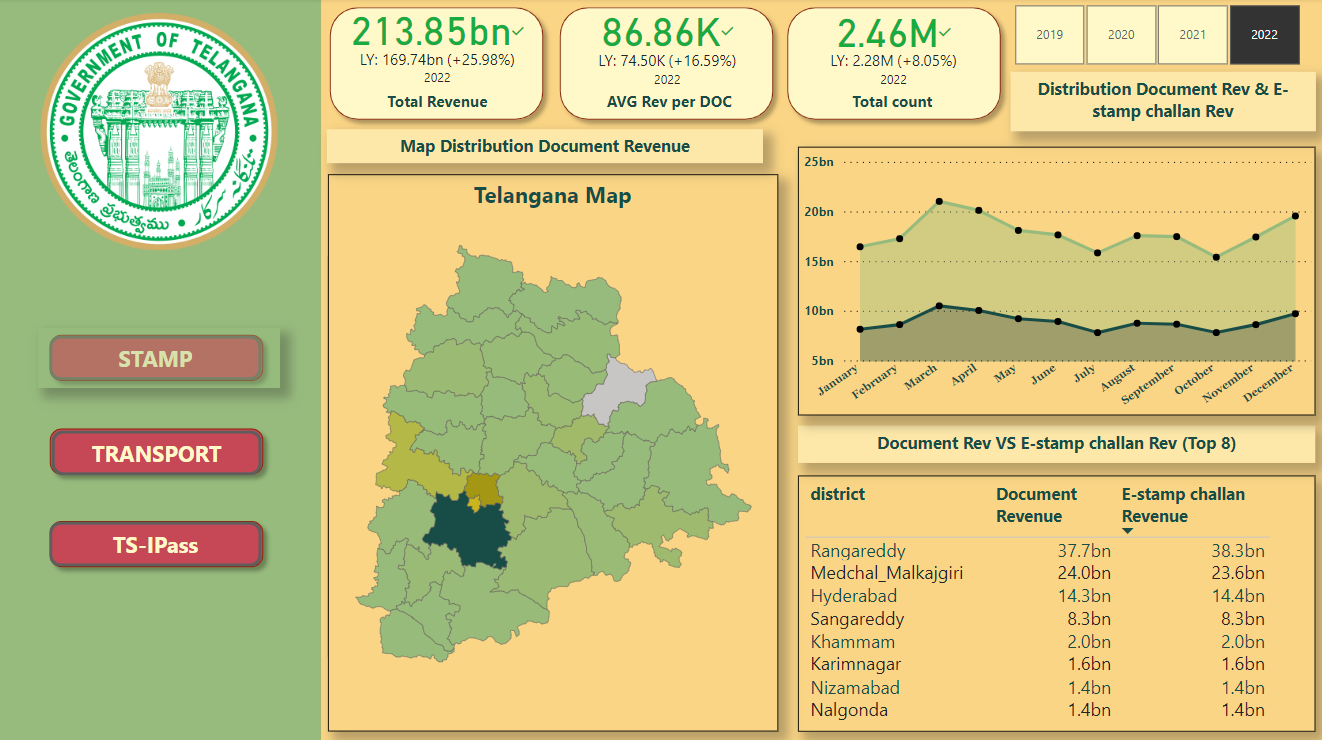

Layout of this report page (visuals, bound fields, positions):
{"tool":"powerbi","page":{"name":"Stamp","canvas":[1280,720],"ordinal":0},"visuals":[{"type":"image","box":[36.2,9.6,238.8,238.8],"z":0},{"type":"shape","box":[311.6,0.2,224.3,126.6],"z":1000},{"type":"kpi","fields":{"Indicator":["fact_stamps.Total_Rev"],"TrendLine":["dim_date.fiscal_year"],"Goal":["fact_stamps.Total_revenue_LY"]},"box":[331.1,13.4,184.5,71.6],"z":2000},{"type":"shape","box":[533.1,0,224.3,126.6],"z":3000},{"type":"kpi","fields":{"Indicator":["fact_stamps.Average Revenue per Document"],"Goal":["fact_stamps.avg_revenue_per_doc LY"],"TrendLine":["dim_date.fiscal_year"]},"box":[553.5,13.4,184.5,74],"z":4000},{"type":"shapeMap","fields":{"Category":["dim_districts.district"],"Value":["fact_stamps.Total_doc_rev"]},"box":[318.4,170.1,434.2,537.9],"z":5000},{"type":"slicer","fields":{"Values":["dim_date.fiscal_year"]},"box":[955.2,0,324.4,71.2],"z":6000},{"type":"tableEx","fields":{"Values":["dim_districts.district","fact_stamps.Total_doc_rev","fact_stamps.Total_estamp_challan"]},"box":[771.9,460.7,499.3,247.2],"z":7000},{"type":"shape","box":[752.6,0,224.3,126.6],"z":8000},{"type":"kpi","fields":{"Goal":["fact_stamps.Total_count_LY"],"TrendLine":["dim_date.fiscal_year"],"Indicator":["fact_stamps.Total_cnt"]},"box":[772.3,13.3,184.5,74.8],"z":9000},{"type":"textbox","box":[351.9,84.4,143.5,32.6],"z":10000},{"type":"textbox","box":[574.4,84.4,147.1,32],"z":11000},{"type":"textbox","box":[791.2,84.4,143.5,32.6],"z":12000},{"type":"textbox","box":[317.2,126.6,420.9,32.6],"z":13000},{"type":"textbox","box":[976.9,71.2,294.3,57.9],"z":14000},{"type":"textbox","box":[771.9,412.5,499.3,36.2],"z":15000},{"type":"stackedAreaChart","fields":{"Category":["dim_date.month.Variation.Date Hierarchy.Month"],"Y":["fact_stamps.Total_doc_rev","fact_stamps.Total_estamp_challan"]},"box":[771.9,143.5,499.3,259.3],"z":16000},{"type":"shape","box":[40.9,316,224.3,62.7],"z":17000},{"type":"shape","box":[40.9,406.4,224.3,62.7],"z":18000},{"type":"actionButton","box":[51.9,417.3,202.6,43.4],"z":19000},{"type":"shape","box":[41,495.7,224.3,62.7],"z":20000},{"type":"actionButton","box":[49.4,325.6,205,43.4],"z":21000},{"type":"actionButton","box":[49.4,505.3,205,43.4],"z":22000},{"type":"textbox","box":[38.6,318.4,234,57.9],"z":23000},{"type":"textbox","box":[318.5,170.1,433.7,39.7],"z":24000}]}

Visuals, with their boxes in screenshot pixels (x1, y1, x2, y2), scaled from the page's 1280x720 canvas onto the 1322x740 screenshot:
image: locate(37, 10, 284, 255)
shape: locate(322, 0, 553, 130)
kpi - fact_stamps.Total_Rev x dim_date.fiscal_year: locate(342, 14, 533, 87)
shape: locate(551, 0, 782, 130)
kpi - fact_stamps.Average Revenue per Document x fact_stamps.avg_revenue_per_doc LY: locate(572, 14, 762, 90)
shapeMap - dim_districts.district x fact_stamps.Total_doc_rev: locate(329, 175, 777, 728)
slicer - dim_date.fiscal_year: locate(987, 0, 1321, 73)
tableEx - dim_districts.district x fact_stamps.Total_doc_rev: locate(797, 473, 1313, 728)
shape: locate(777, 0, 1009, 130)
kpi - fact_stamps.Total_count_LY x dim_date.fiscal_year: locate(798, 14, 988, 91)
textbox: locate(363, 87, 512, 120)
textbox: locate(593, 87, 745, 120)
textbox: locate(817, 87, 965, 120)
textbox: locate(328, 130, 762, 164)
textbox: locate(1009, 73, 1313, 133)
textbox: locate(797, 424, 1313, 461)
stackedAreaChart - dim_date.month.Variation.Date Hierarchy.Month x fact_stamps.Total_doc_rev: locate(797, 147, 1313, 414)
shape: locate(42, 325, 274, 389)
shape: locate(42, 418, 274, 482)
actionButton: locate(54, 429, 263, 473)
shape: locate(42, 509, 274, 574)
actionButton: locate(51, 335, 263, 379)
actionButton: locate(51, 519, 263, 564)
textbox: locate(40, 327, 282, 387)
textbox: locate(329, 175, 777, 216)
